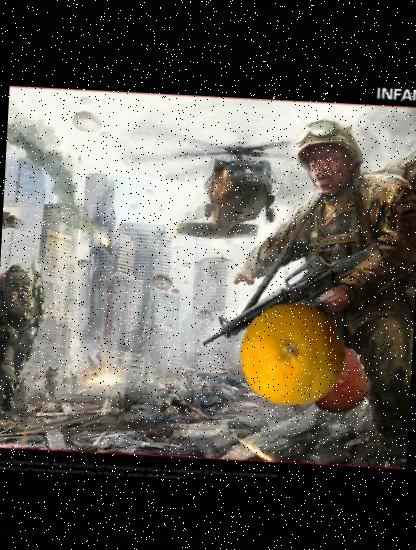Grapefruit: (237, 298, 352, 412)
Peach: (303, 348, 372, 416)
